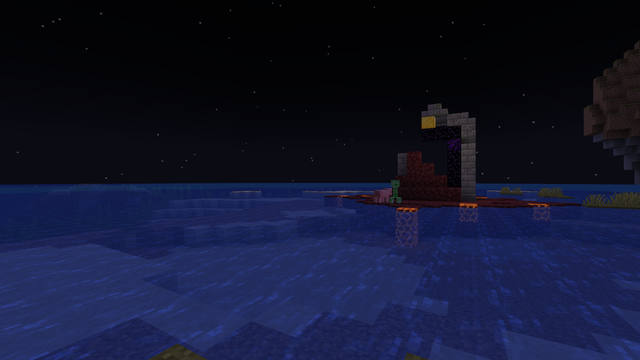cochons: (373, 189, 387, 202)
creepers: (389, 178, 399, 202)
